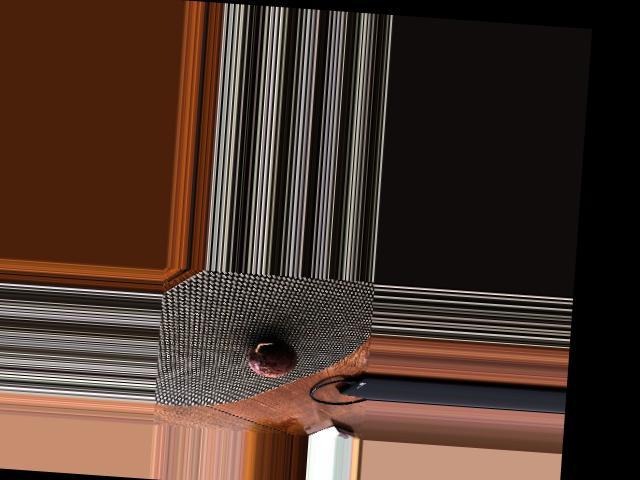beet: (247, 337, 298, 378)
